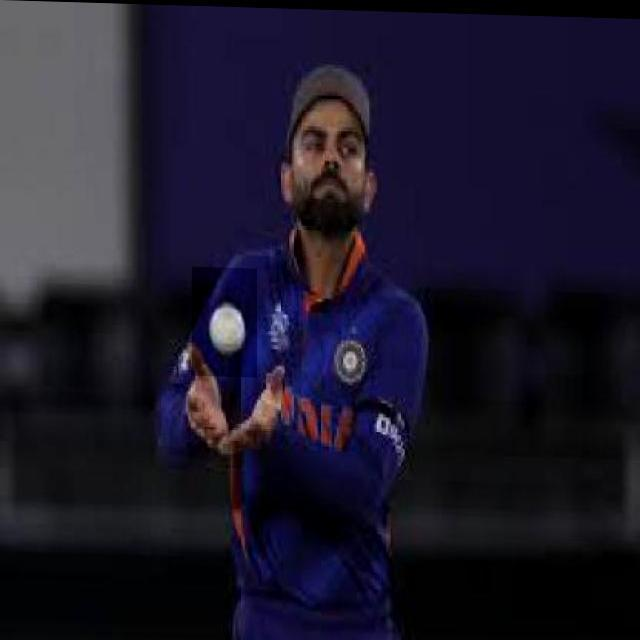-: (192, 265, 257, 376)
